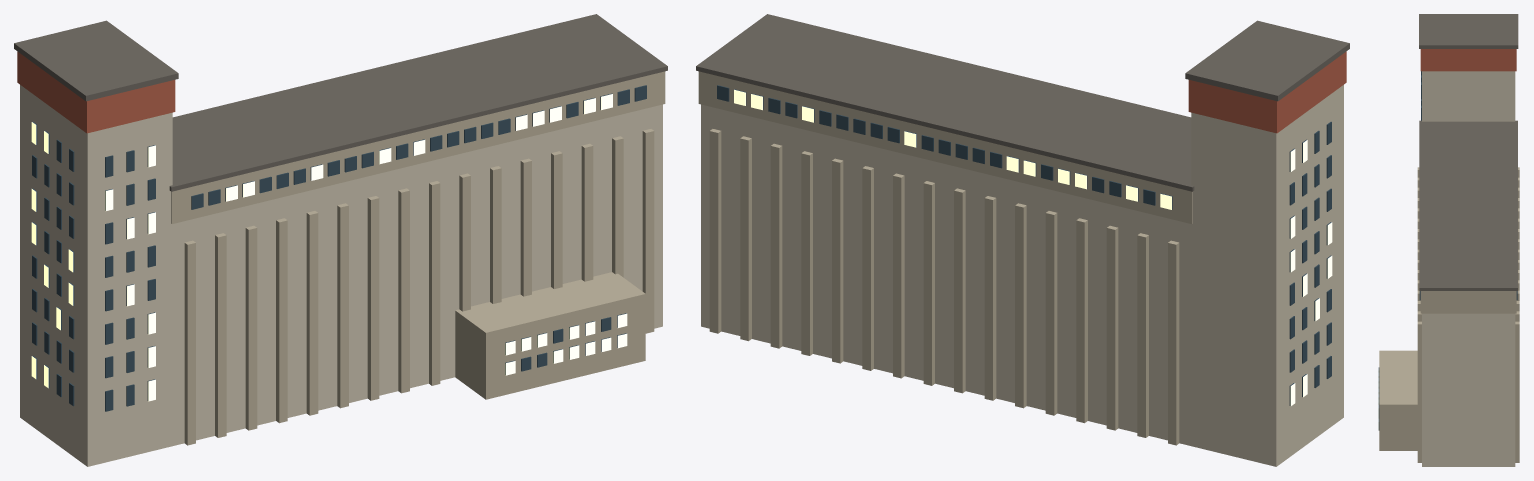
The model's file is maassilo.glb.
3 renders of one model, left to right at view 1: azimuth 30°, elevation 25°; view 2: azimuth 150°, elevation 25°; view 3: azimuth 270°, elevation 25°, orthographic. The views are drawn at different scales.
Parts seen in each view (by area): view 1: silo, toren, dak, kantoor, galerij, torendak, torenkop, galerijramen, torenramen, torenramen2, lisene2-11.5, lisene6-11.5 (+19 smaller); view 2: silo, toren, dak, galerij, torendak, torenkop, galerijramen2, torenramen2, lisene211.5, lisene611.5, lisene1311.5, lisene411.5 (+14 smaller); view 3: dak, silo, toren, kantoor, torendak, galerij, torenkop, lisene1511.5, lisene15-11.5.
Boxes of the visible parts, x1,y1,x2,y2 form: silo: (172, 104, 662, 445); toren: (20, 85, 172, 466); dak: (169, 14, 667, 191); kantoor: (455, 272, 645, 399); galerij: (171, 71, 665, 223); torendak: (14, 20, 178, 101); torenkop: (17, 51, 175, 133); galerijramen: (191, 85, 646, 209); torenramen: (105, 145, 155, 411); torenramen2: (32, 121, 74, 406); lisene2-11.5: (245, 225, 257, 430); lisene6-11.5: (367, 196, 379, 400); silo: (701, 104, 1191, 445); toren: (1191, 85, 1343, 466); dak: (696, 14, 1194, 191); galerij: (698, 71, 1192, 223); torendak: (1185, 20, 1349, 101); torenkop: (1188, 51, 1346, 133); galerijramen2: (717, 85, 1172, 209); torenramen2: (1289, 121, 1331, 405); lisene211.5: (1106, 225, 1118, 430); lisene611.5: (984, 196, 996, 400); lisene1311.5: (770, 143, 782, 348); lisene411.5: (1045, 211, 1057, 415); dak: (1419, 120, 1517, 290); silo: (1422, 313, 1515, 466); toren: (1422, 71, 1515, 121); kantoor: (1379, 350, 1417, 450); torendak: (1419, 14, 1518, 48); galerij: (1420, 291, 1516, 313); torenkop: (1420, 49, 1516, 71); lisene1511.5: (1515, 321, 1519, 462); lisene15-11.5: (1417, 321, 1421, 462).
Size of the model in its own units: 109 by 67 by 33.26.
